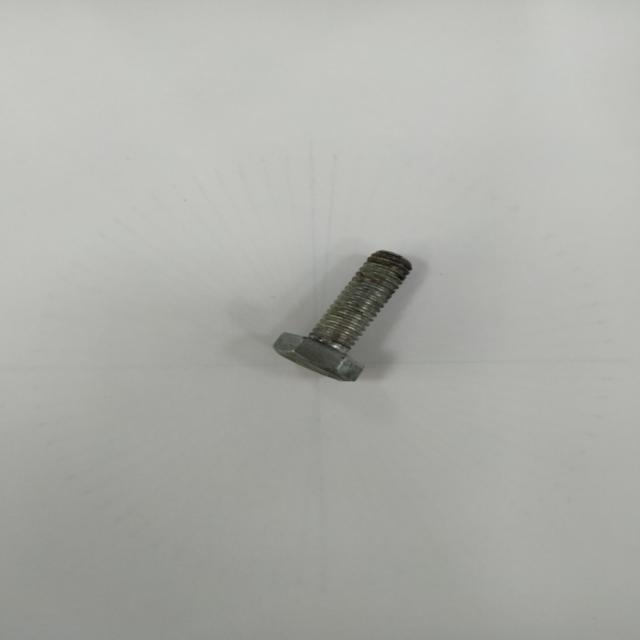Bolt: (273, 250, 412, 381)
